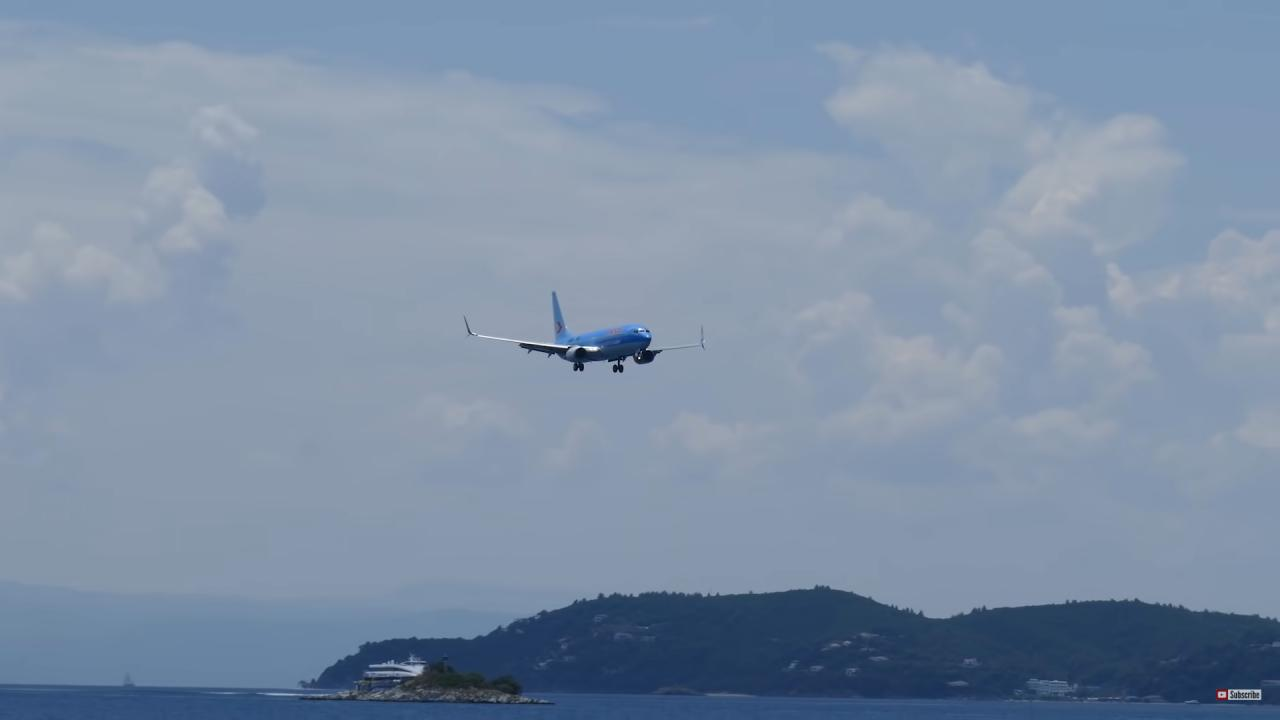Airplane: (448, 281, 723, 385)
